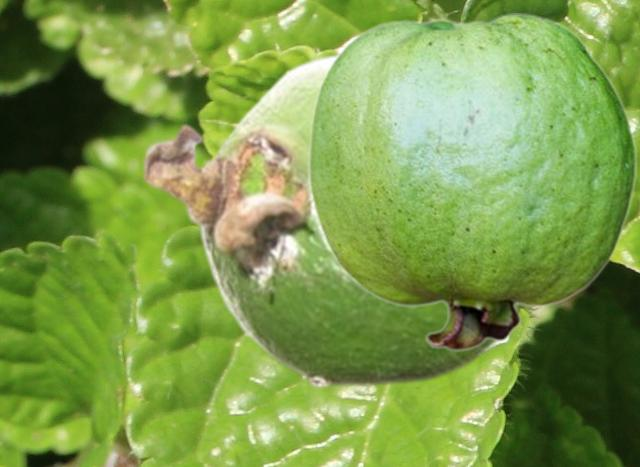guava: (140, 50, 523, 388), (307, 13, 637, 351)
